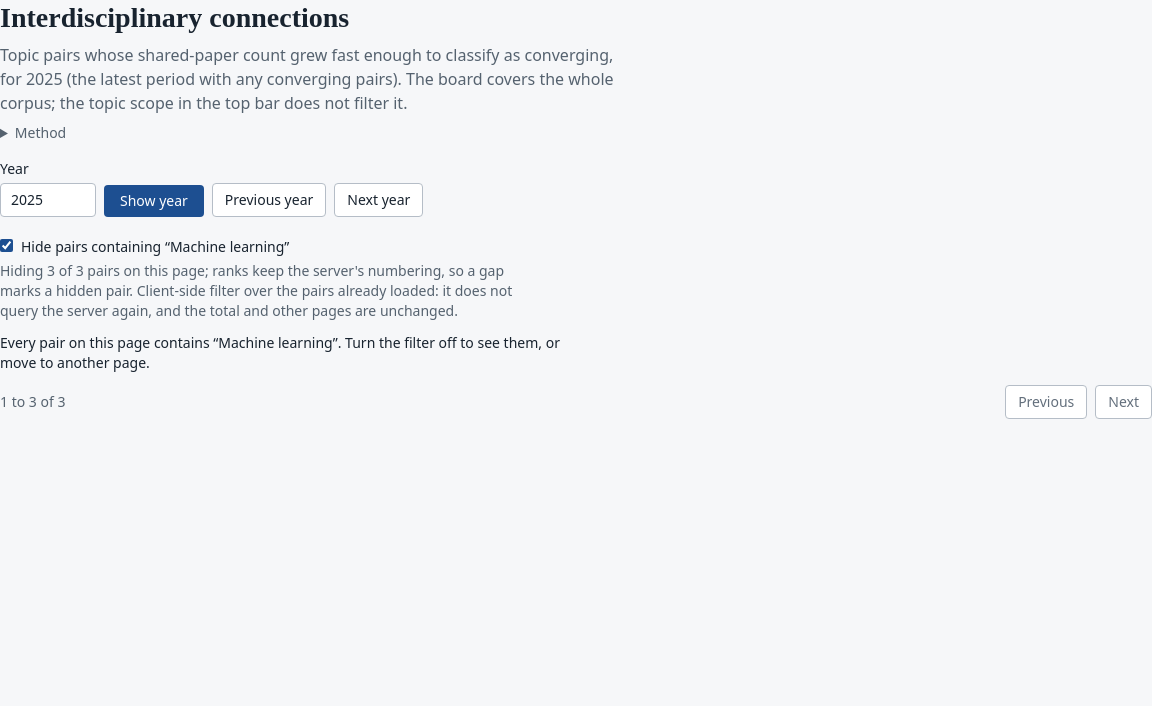
ConnectionsBoard › Phase 6c › reproduces a hidden topic from the URL and says so when it empties the page
Expected: the text "Every pair on this page contains" is shown, [0, 333, 213, 352]
Expected: the table "Converging topic pairs" is not shown
Click the checkbox labelled "Hide pairs containing “Machine learning”".
click(6, 246)  # box [0, 239, 13, 252]
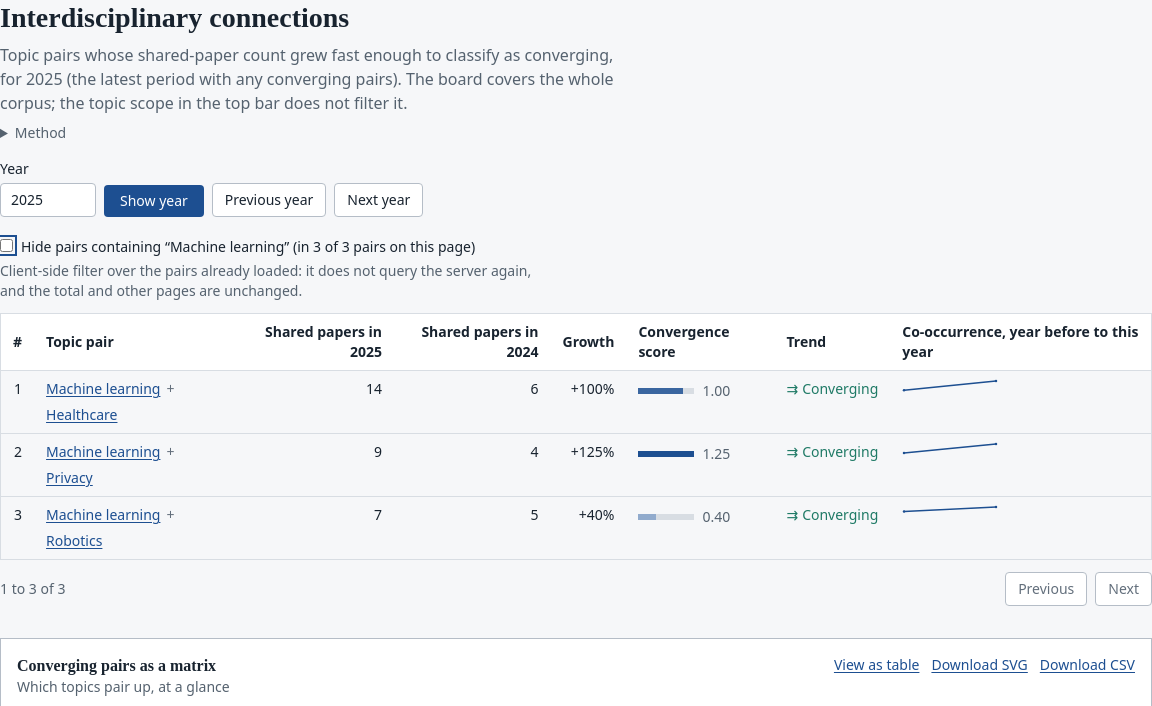
Now the table named "Converging topic pairs" is shown, box [1, 314, 1151, 559]
